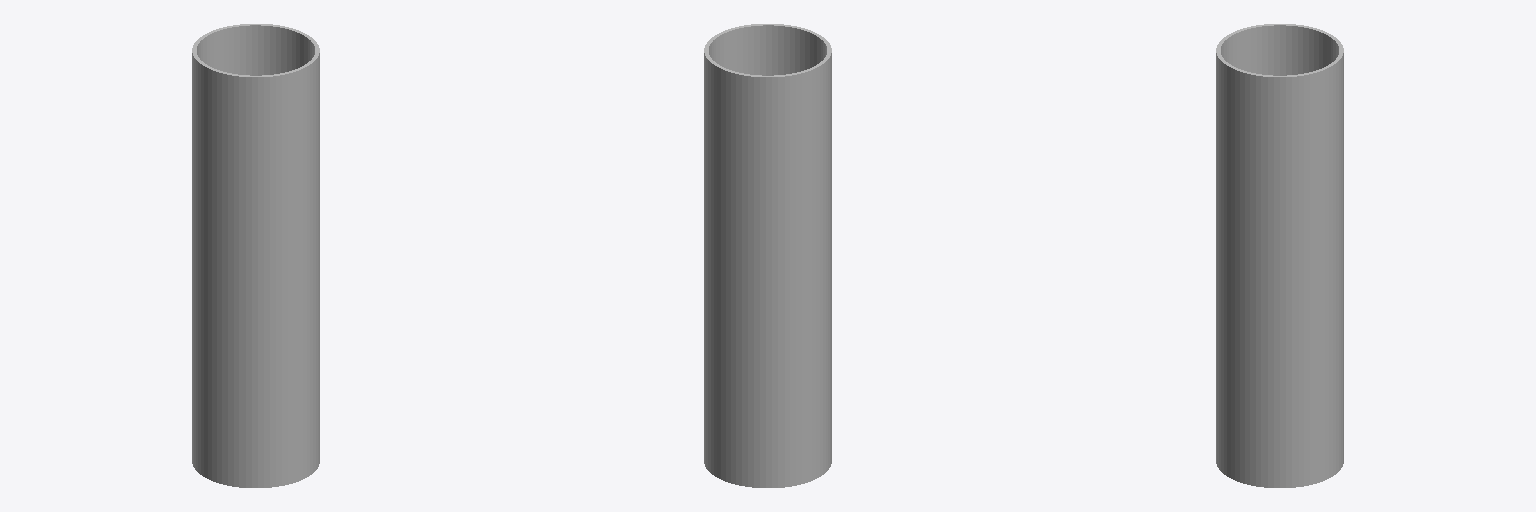
Rendered from Hull.obj.
3 views of the same model, side by side, from view 1: azimuth 30°, elevation 25°; view 2: azimuth 150°, elevation 25°; view 3: azimuth 270°, elevation 25° (orthographic).
Parts seen in each view (by area): view 1: Hull_Hull_v6; view 2: Hull_Hull_v6; view 3: Hull_Hull_v6.
Part boxes in pixels (left/top/right/bottom): Hull_Hull_v6: left=192, top=24, right=319, bottom=487; Hull_Hull_v6: left=704, top=24, right=831, bottom=487; Hull_Hull_v6: left=1216, top=24, right=1343, bottom=487.
Size of the model in its own units: 0.09 by 0.32 by 0.09.